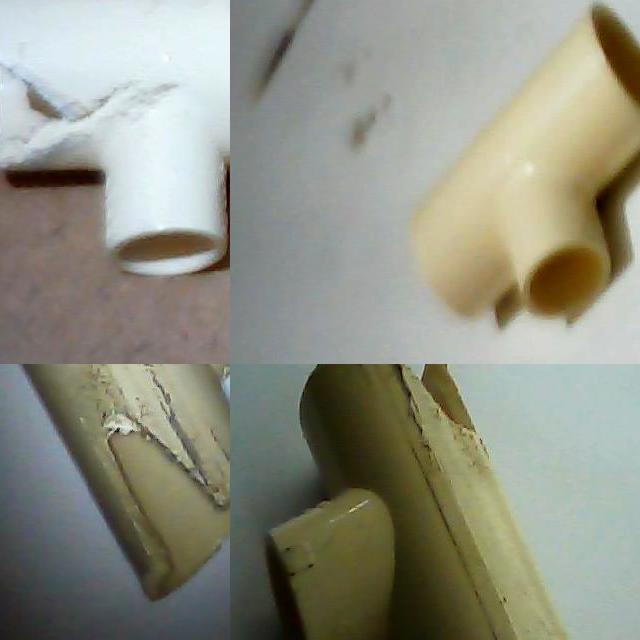Defective: (88, 416, 230, 563), (0, 28, 88, 182), (389, 364, 475, 475), (378, 364, 478, 436)
T Joint: (270, 364, 570, 640), (410, 4, 640, 323), (20, 364, 230, 603)
